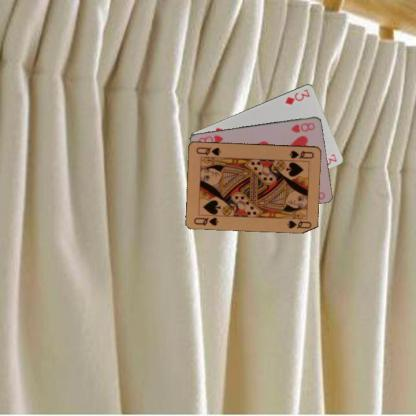3d: (282, 86, 311, 106)
8h: (288, 120, 316, 134)
Qs: (191, 214, 220, 226), (287, 148, 315, 160)
